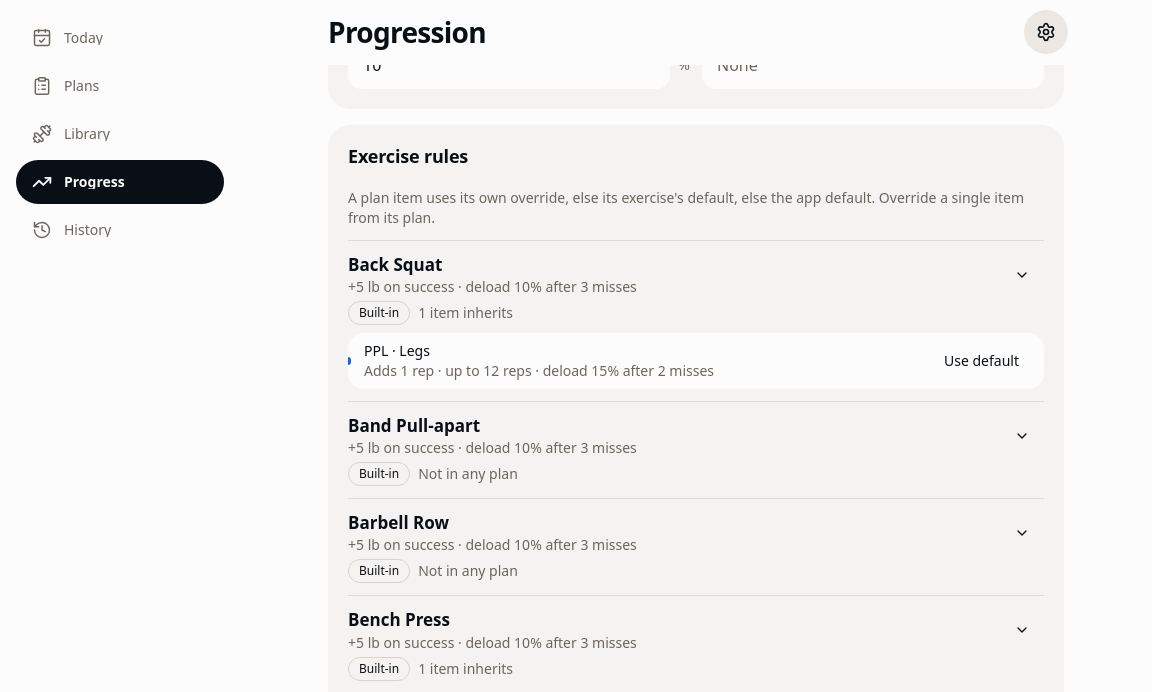
overriding items are listed under the exercise with plan · day and Use default
This screenshot has width=1152, height=692.
(page scrolled)
Expected: the text "1 item inherits" below "Back Squat" is shown, x1=418 y1=303 x2=513 y2=322
Expected: the text "PPL · Legs" is shown, x1=364 y1=341 x2=430 y2=360
Click the button with aria-label "Use default for Back Squat in PPL · Legs". click: point(982, 361)
box: x1=927 y1=339 x2=1036 y2=383
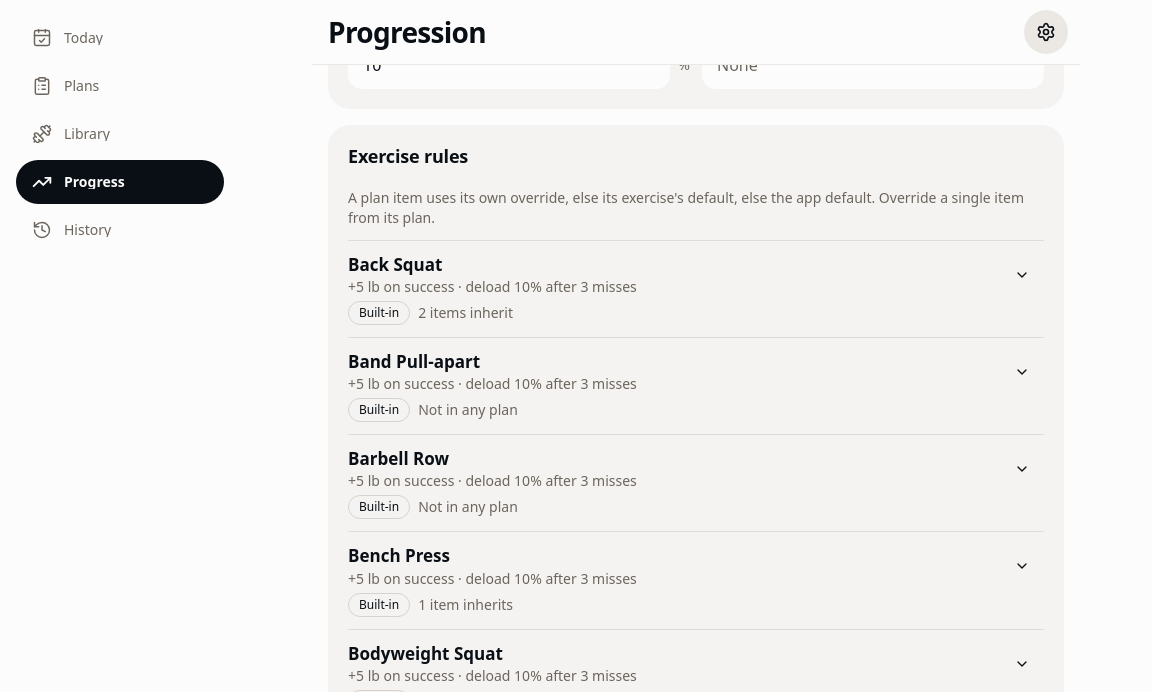
Expected: the text "2 items inherit" is shown, x1=418 y1=303 x2=513 y2=323
